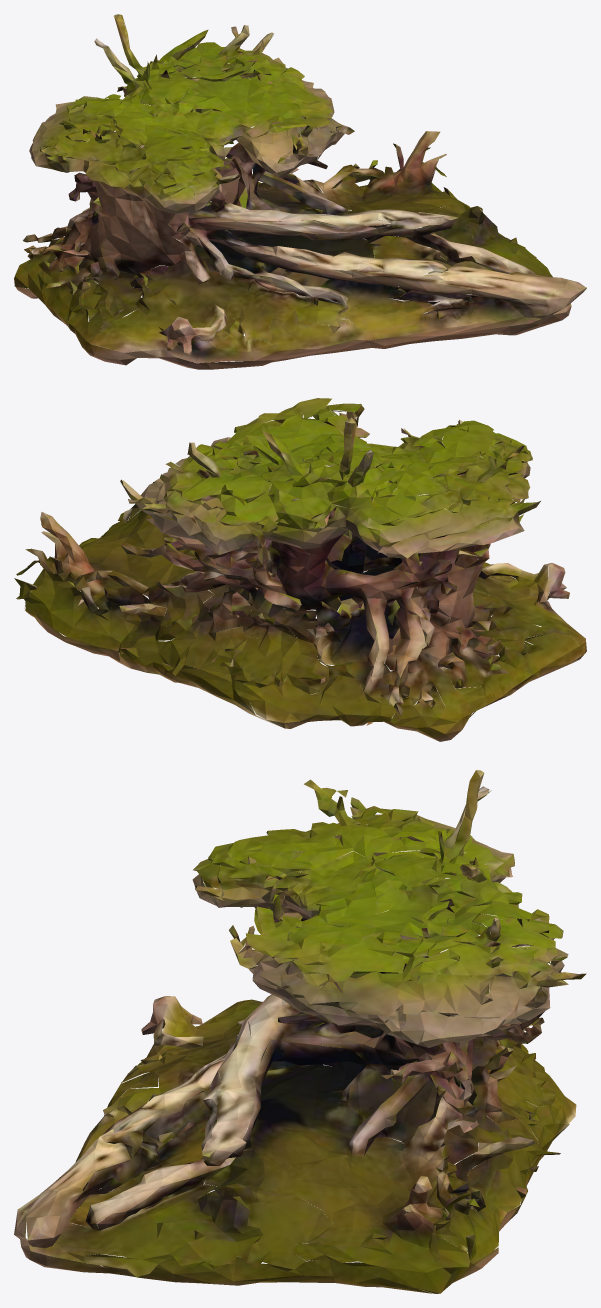
Rendered from wt-bog-log-barrier.glb.
3 renders of one model, top to bottom at view 1: azimuth 30°, elevation 25°; view 2: azimuth 150°, elevation 25°; view 3: azimuth 270°, elevation 25°, orthographic. The views are drawn at different scales.
Parts seen in each view (by area): view 1: tmpgteryvwq.ply; view 2: tmpgteryvwq.ply; view 3: tmpgteryvwq.ply.
Boxes of the visible parts, left/top/right/bottom form: tmpgteryvwq.ply: left=14, top=14, right=586, bottom=369; tmpgteryvwq.ply: left=14, top=398, right=586, bottom=741; tmpgteryvwq.ply: left=14, top=770, right=586, bottom=1293.
Size of the model in its own units: 4.23 by 2.45 by 3.75.
1 material, 1 textured.
